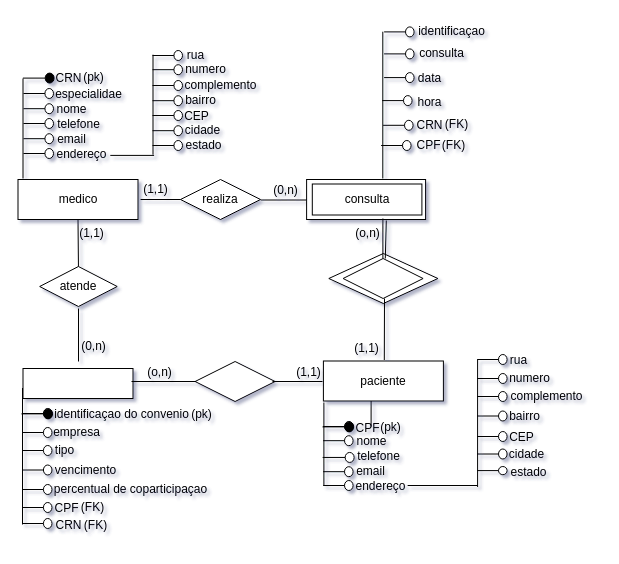
Image size: 619x564. Some labels were removed from this diagram. The shapes that lost their labels are listed below. From the top down, each one's centre as x and y in pixels, then its label:
At point (382, 278): "marca".
At point (77, 383): "convenio".
At point (234, 381): "possuir".
